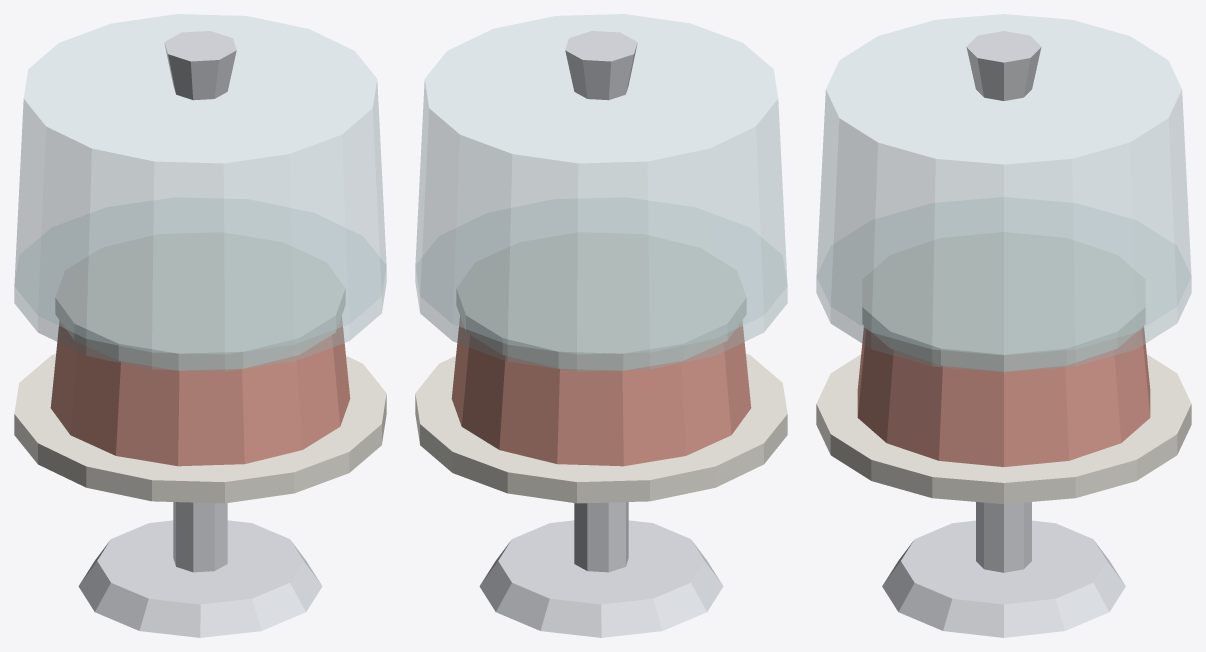
Rendered from retro-diner-and-roadside-motel-cake-stand-6e8dce9c__37334.glb.
The picture shows the model from 3 angles, left to right: view 1: azimuth 30°, elevation 25°; view 2: azimuth 150°, elevation 25°; view 3: azimuth 270°, elevation 25°; orthographic projection.
Parts seen in each view (by area): view 1: cake-stand-glass, cake-stand-cream, cake-stand-coral, cake-stand-chrome; view 2: cake-stand-glass, cake-stand-cream, cake-stand-coral, cake-stand-chrome; view 3: cake-stand-glass, cake-stand-cream, cake-stand-coral, cake-stand-chrome.
Boxes of the visible parts, <box> form: cake-stand-glass: <box>14,14,386,371</box>; cake-stand-cream: <box>14,232,386,503</box>; cake-stand-coral: <box>50,317,350,466</box>; cake-stand-chrome: <box>78,31,322,637</box>; cake-stand-glass: <box>415,14,787,371</box>; cake-stand-cream: <box>415,232,787,503</box>; cake-stand-coral: <box>451,317,751,466</box>; cake-stand-chrome: <box>479,31,723,637</box>; cake-stand-glass: <box>816,14,1191,372</box>; cake-stand-cream: <box>816,232,1191,504</box>; cake-stand-coral: <box>857,326,1150,466</box>; cake-stand-chrome: <box>882,31,1125,637</box>.
Size of the model in its own units: 0.4 by 0.635 by 0.4.
